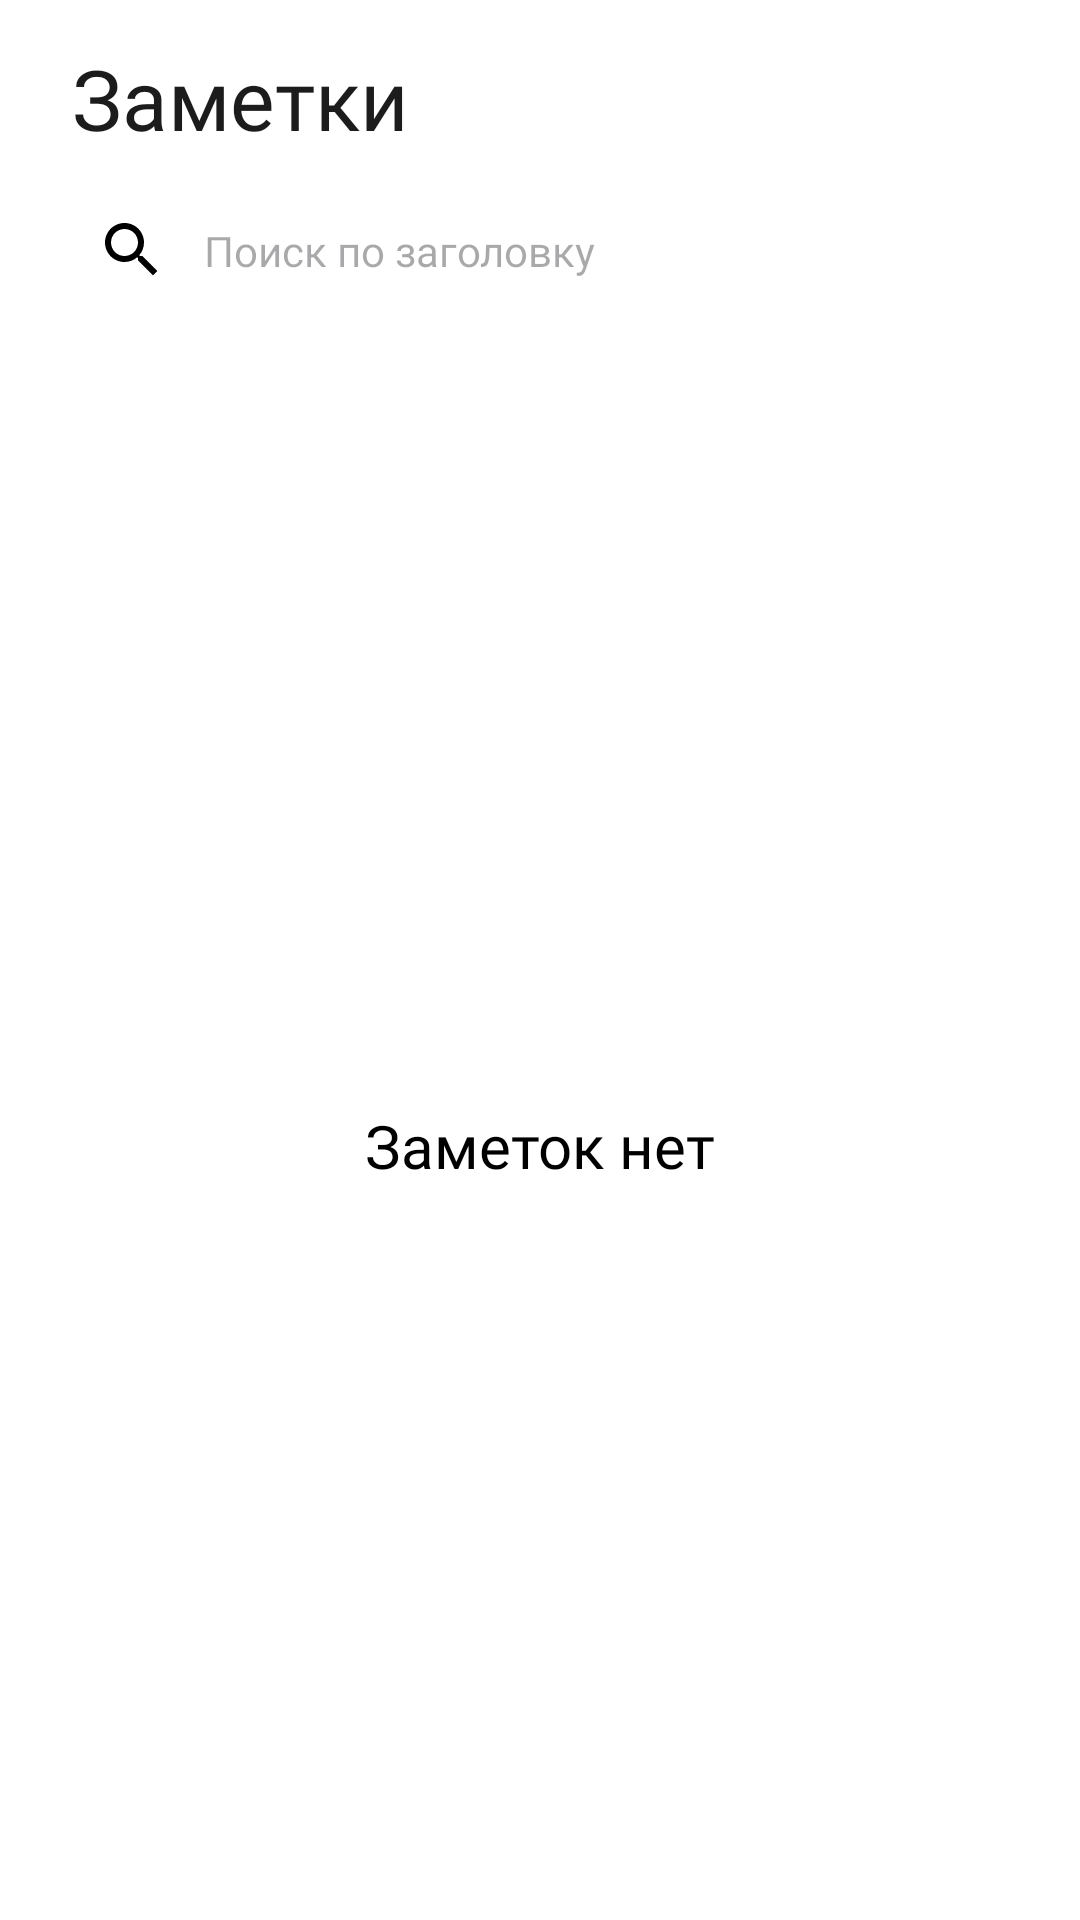

Named icons in this screenshot (1080×1920) and their bounding boxes, (x1, y1, x2, y2):
search: (105, 223, 157, 275)
